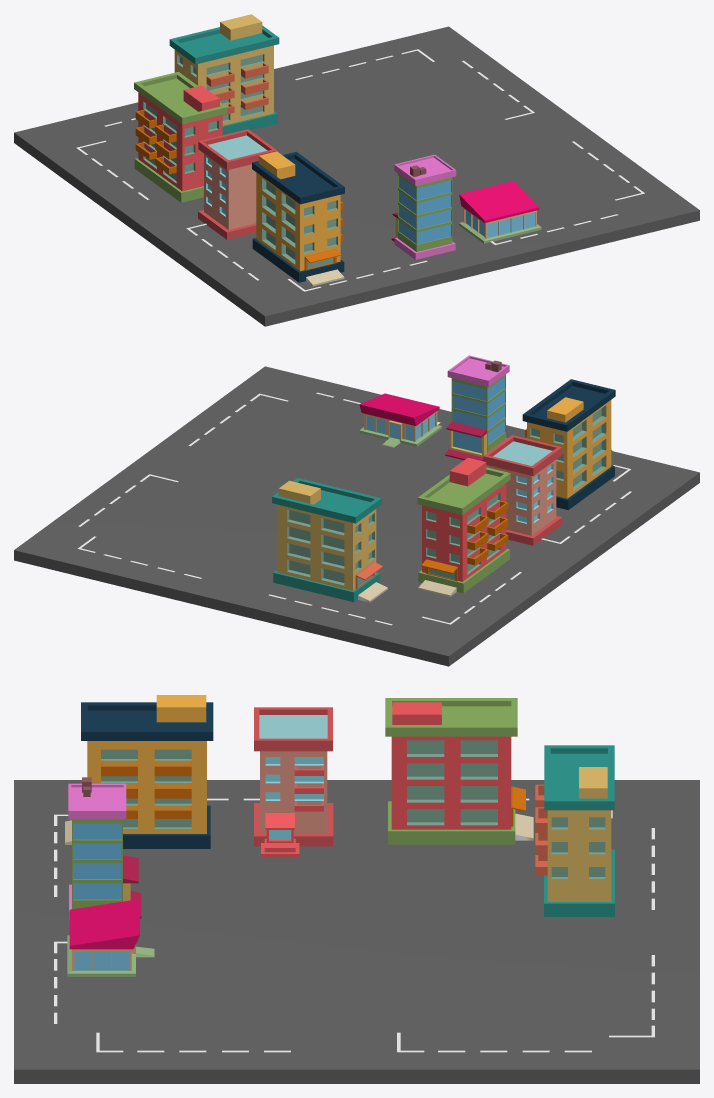
Rendered from city.fbx.
3 renders of one model, top to bottom at view 1: azimuth 30°, elevation 25°; view 2: azimuth 150°, elevation 25°; view 3: azimuth 270°, elevation 25°, orthographic. The views are drawn at different scales.
Parts seen in each view (by area): view 1: calles, edificio2, edificio2.001, edificio2.002, edificio5, edificio4, edificio7; view 2: calles, edificio2.002, edificio2.001, edificio2, edificio5, edificio4, edificio7; view 3: calles, edificio2.001, edificio2, edificio2.002, edificio5, edificio4, edificio7.
Boxes of the visible parts, x1,y1,x2,y2 form: calles: (14,26,699,326); edificio2: (252,151,344,286); edificio2.001: (134,71,226,202); edificio2.002: (169,14,279,134); edificio5: (198,129,277,239); edificio4: (391,154,456,259); edificio7: (459,181,541,243); calles: (14,366,699,666); edificio2.002: (272,478,387,602); edificio2.001: (417,457,510,596); edificio2: (522,379,615,510); edificio5: (483,435,562,545); edificio4: (445,355,509,461); edificio7: (359,393,441,447); calles: (14,780,699,1083); edificio2.001: (385,698,533,844); edificio2: (65,695,213,848); edificio2.002: (535,745,614,916); edificio5: (254,707,333,857); edificio4: (68,777,141,920); edificio7: (67,899,154,976).
Size of the model in its own units: 2755 by 628 by 2755.
